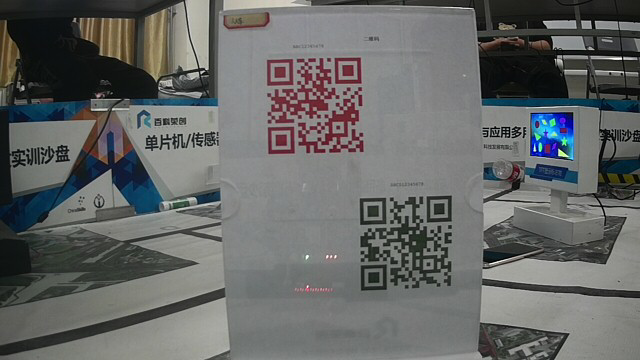qrcode: (261, 54, 370, 158), (355, 192, 456, 294)
